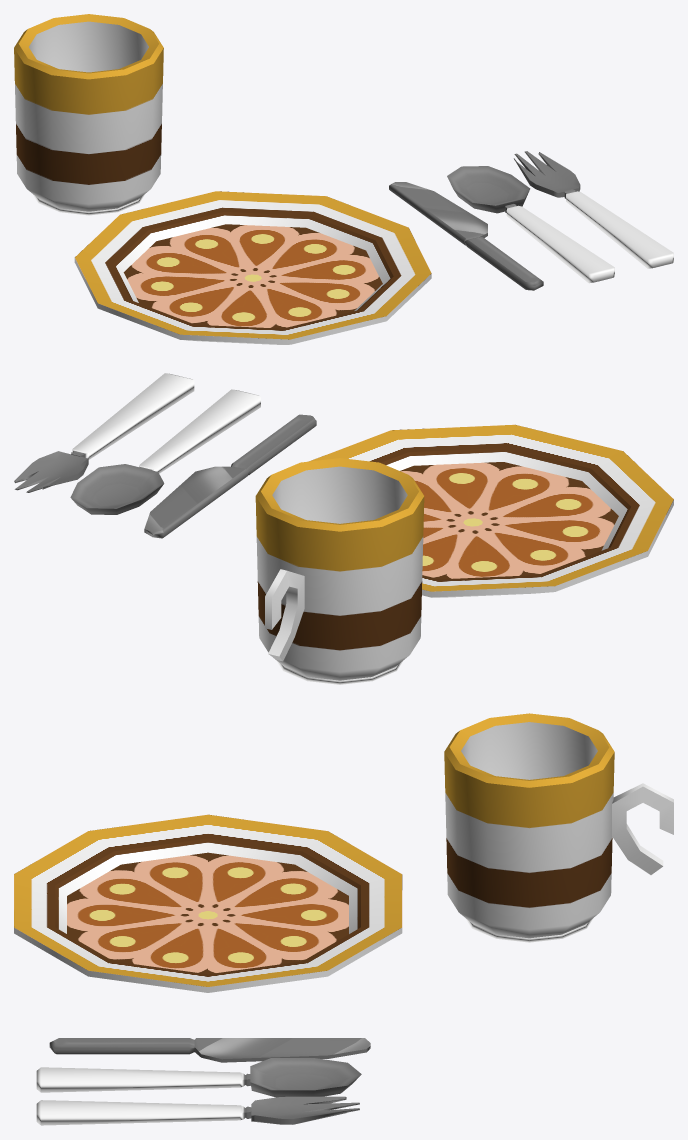
The model's file is Cutlery.fbx.
The picture shows the model from 3 angles, top to bottom: view 1: azimuth 30°, elevation 25°; view 2: azimuth 150°, elevation 25°; view 3: azimuth 270°, elevation 25°; orthographic projection. The views are drawn at different scales.
Visible parts, largest first — view 1: Plate01, Cup01, Spoon01, Fork01, Knife01; view 2: Plate01, Cup01, Spoon01, Fork01, Knife01; view 3: Plate01, Cup01, Spoon01, Fork01, Knife01.
Boxes of the visible parts, left/top/right/bottom form: Plate01: left=74, top=191, right=431, bottom=344; Cup01: left=14, top=14, right=163, bottom=215; Spoon01: left=447, top=166, right=614, bottom=283; Fork01: left=513, top=151, right=673, bottom=268; Knife01: left=389, top=182, right=543, bottom=290; Plate01: left=309, top=424, right=673, bottom=597; Cup01: left=255, top=458, right=424, bottom=684; Spoon01: left=70, top=389, right=260, bottom=514; Fork01: left=14, top=373, right=194, bottom=492; Knife01: left=144, top=414, right=316, bottom=538; Plate01: left=14, top=814, right=402, bottom=992; Cup01: left=444, top=713, right=673, bottom=942; Spoon01: left=36, top=1058, right=361, bottom=1097; Fork01: left=36, top=1096, right=359, bottom=1125; Knife01: left=49, top=1038, right=370, bottom=1062.
Bounding box in the file's own units: 8.2 × 2.4 × 8.08.
